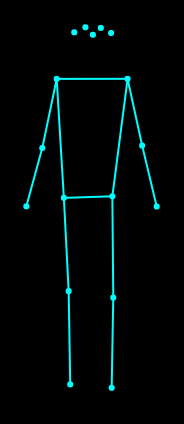mountain: (17, 20, 167, 393)
